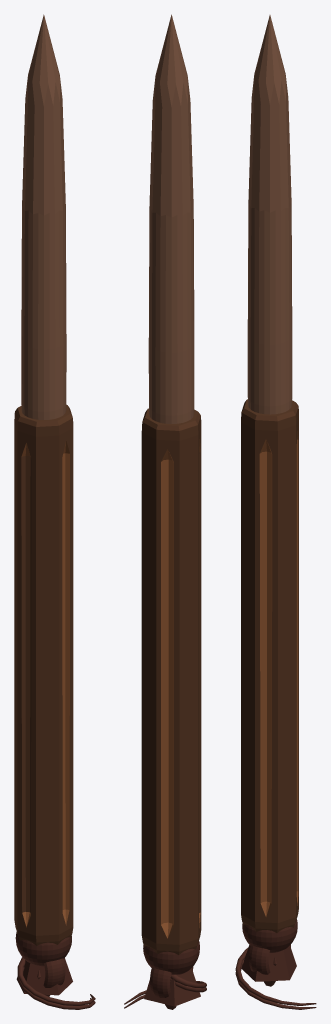
File: Wand 509.glb
3 views of the same model, side by side, from view 1: azimuth 30°, elevation 25°; view 2: azimuth 150°, elevation 25°; view 3: azimuth 330°, elevation 25° (orthographic). The views are drawn at different scales.
Parts seen in each view (by area): view 1: GeneratedWand, Pommel_4, Pommel_9, Pommel_2, Pommel_10; view 2: GeneratedWand, Pommel_4, Pommel_9, Pommel_2, Pommel_10; view 3: GeneratedWand, Pommel_9, Pommel_4, Pommel_2, Pommel_10.
Part boxes in pixels (left/top/right/bottom): GeneratedWand: left=14, top=14, right=95, bottom=1005; Pommel_4: left=15, top=932, right=71, bottom=966; Pommel_9: left=16, top=958, right=72, bottom=995; Pommel_2: left=43, top=958, right=65, bottom=987; Pommel_10: left=17, top=967, right=95, bottom=1009; GeneratedWand: left=124, top=14, right=206, bottom=1004; Pommel_4: left=143, top=941, right=199, bottom=974; Pommel_9: left=144, top=968, right=200, bottom=1006; Pommel_2: left=150, top=966, right=193, bottom=997; Pommel_10: left=124, top=978, right=206, bottom=1008; GeneratedWand: left=235, top=15, right=316, bottom=1005; Pommel_9: left=241, top=945, right=296, bottom=981; Pommel_4: left=242, top=919, right=297, bottom=952; Pommel_2: left=249, top=944, right=290, bottom=974; Pommel_10: left=235, top=959, right=316, bottom=1009.
Bounding box in the file's own units: 0.0402 × 0.5198 × 0.0347.
